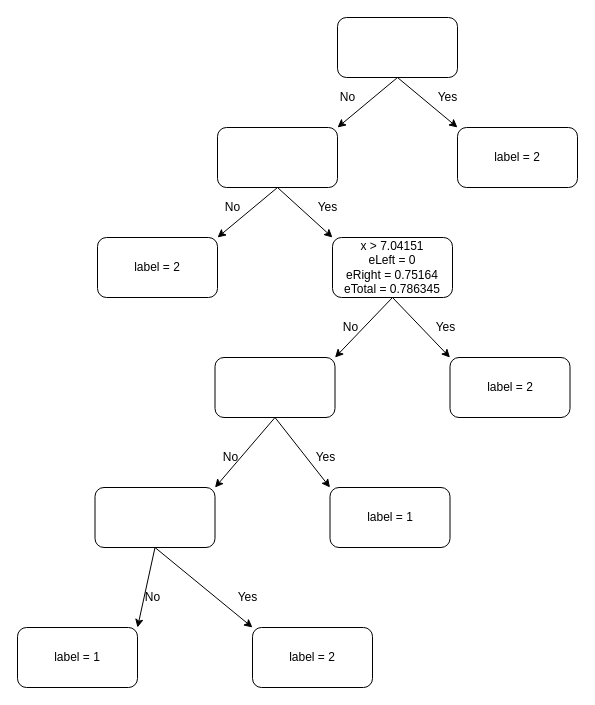
Image size: 595x705. Some labels were removed from this diagram. The box of each missing label's shape, as (x1, y1, x2, y2) in pixels:
x > 2.99558 eLeft = 0.89934 eRight = 0 eTotal = 0.91944: (216, 126, 338, 188)
x > 4.76236 eLeft = 0 eRight = 0.96563 eTotal = 0.58422: (214, 356, 335, 418)
y > 1.00795 eTop = 0 eBottom = 0 eTotal = 0: (94, 486, 215, 548)
y > 3.99381 eTop = 0 eBottom = 0.99403 eTotal = 0.59578: (336, 16, 458, 78)
